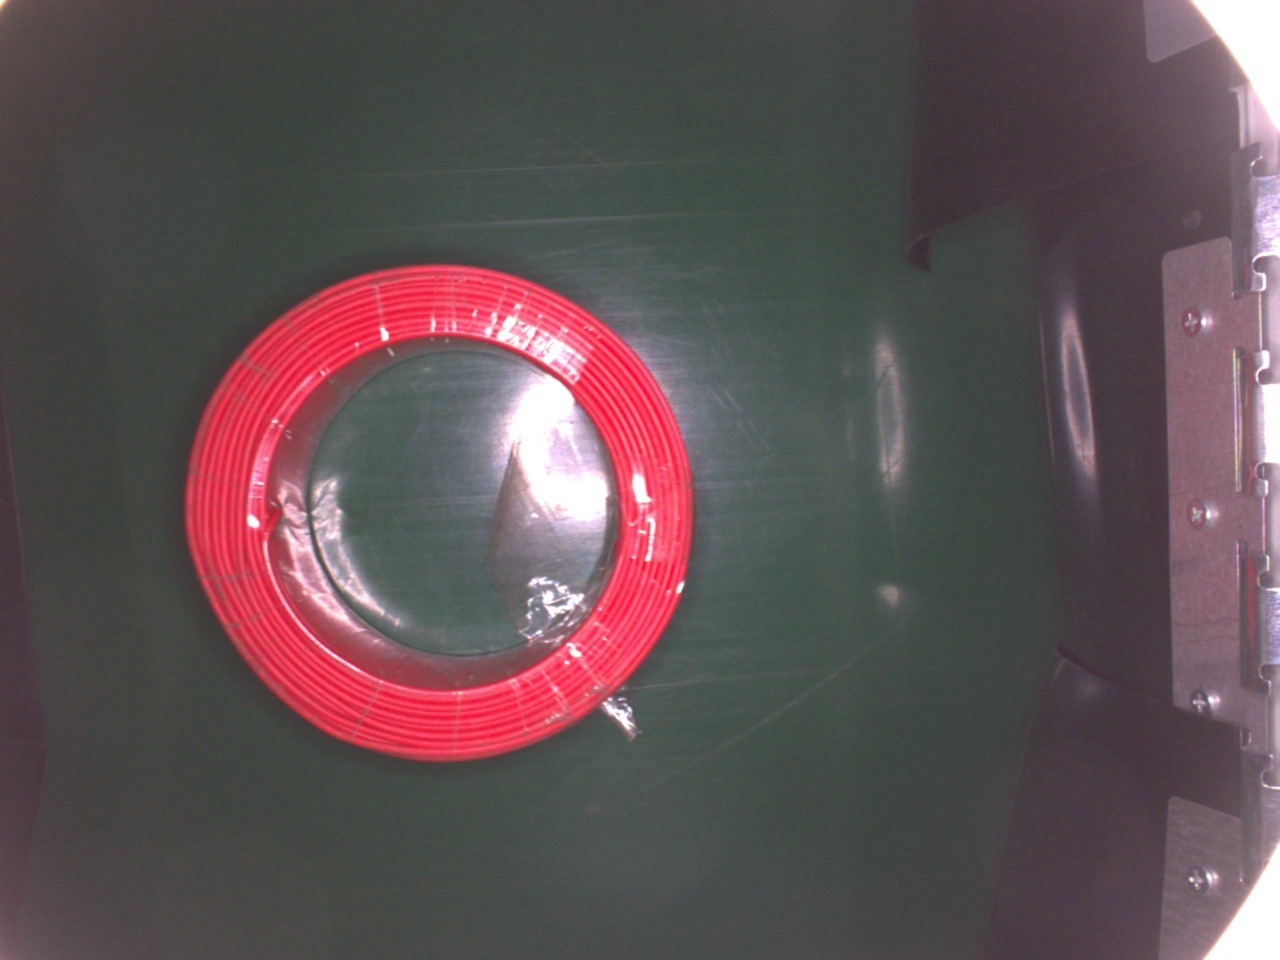red: (179, 261, 691, 761)
